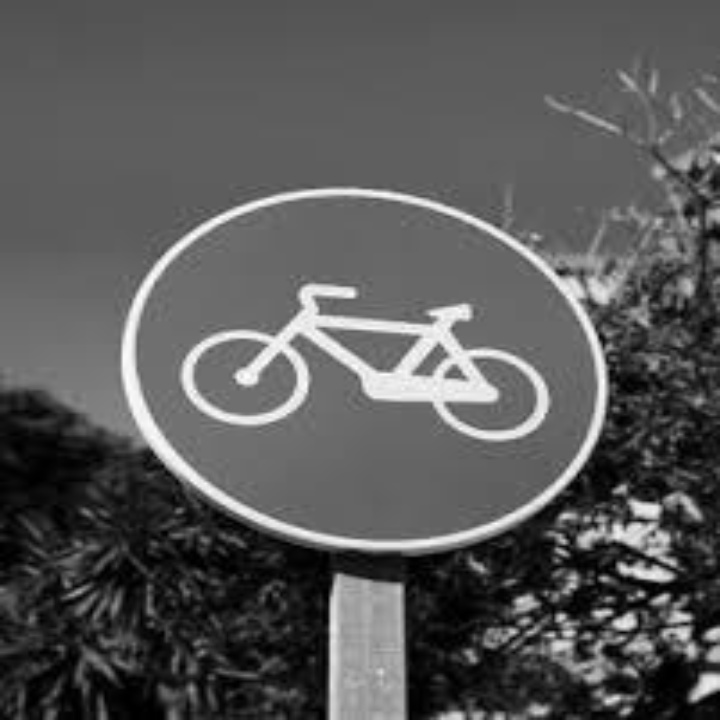bicycle: (157, 250, 565, 459)
